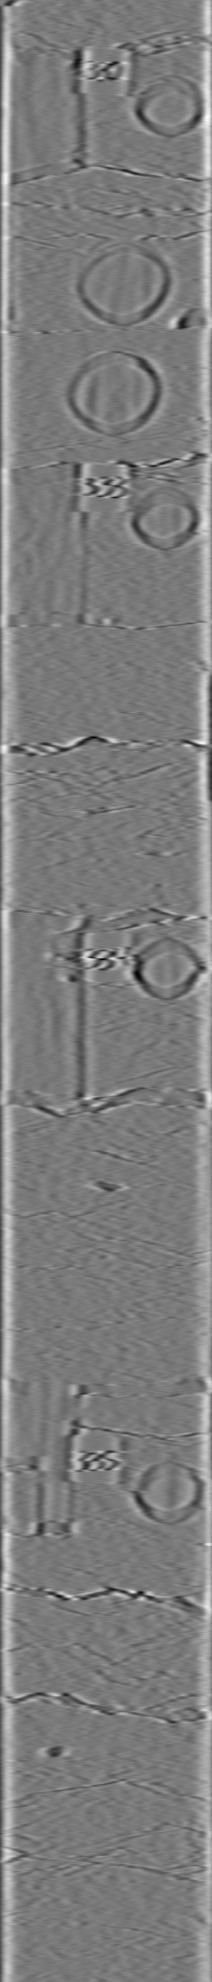hplug: (122, 482, 203, 556), (129, 71, 212, 142), (129, 1454, 204, 1529), (127, 932, 204, 1005)
scal: (68, 238, 172, 332), (64, 346, 164, 439)
vplug: (8, 905, 92, 1114), (5, 456, 92, 636), (1, 1377, 85, 1538), (13, 40, 90, 198)
